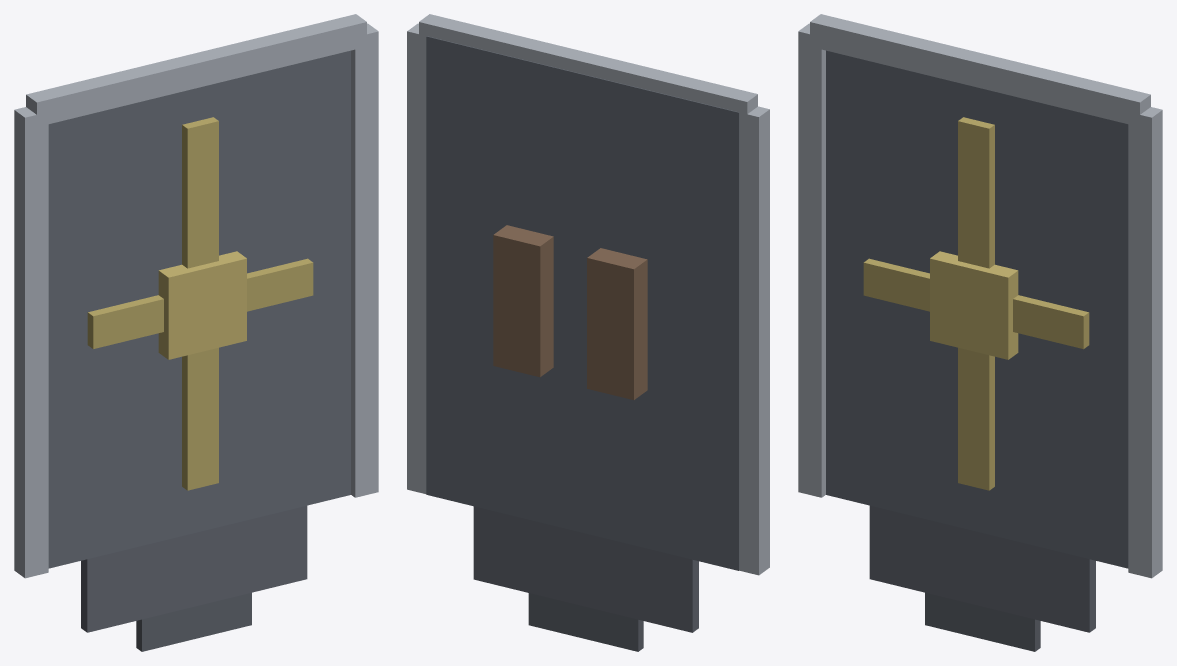
File: weapon_shield.glb
3 views of the same model, side by side, from view 1: azimuth 30°, elevation 25°; view 2: azimuth 150°, elevation 25°; view 3: azimuth 330°, elevation 25° (orthographic).
Visible parts, largest first — view 1: ShieldRoot; view 2: ShieldRoot; view 3: ShieldRoot.
Part boxes in pixels (x1=…): ShieldRoot: x1=14, y1=14, x2=378, y2=651; ShieldRoot: x1=407, y1=14, x2=769, y2=651; ShieldRoot: x1=798, y1=14, x2=1162, y2=651.
Bounding box in the file's own units: 0.45 × 0.705 × 0.08.
